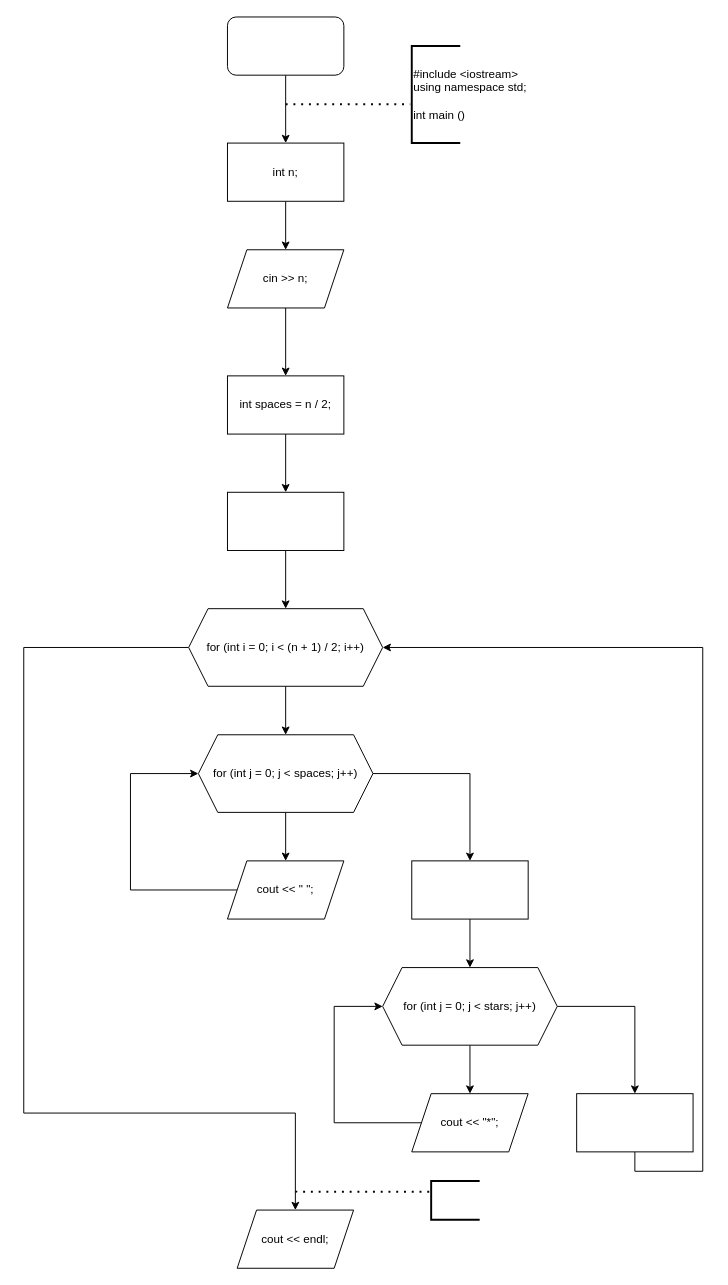
Image size: 728x1285. Some labels were removed from this diagram. The centre of each missing label's shape, as x and y in pixels:
int stars = 1;: (285,520)
return 0;: (455,1200)
spaces--;: (469,889)
stars += 2;: (634,1122)
Start: (285,45)
